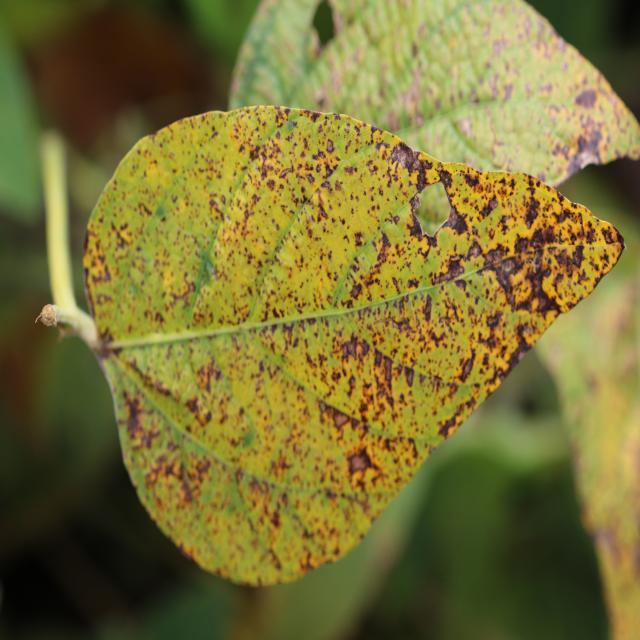Bacterial_Blight: (59, 115, 144, 222), (531, 240, 626, 312), (177, 432, 241, 511), (103, 366, 148, 473), (397, 174, 463, 239), (96, 321, 235, 350), (345, 400, 437, 443), (245, 463, 347, 500), (448, 267, 514, 316), (224, 150, 258, 205), (296, 202, 329, 244), (252, 355, 286, 382), (561, 242, 622, 257), (368, 309, 413, 329), (168, 283, 199, 310), (125, 264, 146, 302), (419, 158, 444, 187), (82, 259, 94, 315), (191, 396, 212, 425), (89, 338, 114, 360), (239, 422, 257, 449), (333, 410, 350, 429), (267, 548, 282, 569), (315, 88, 329, 109), (203, 257, 216, 278), (530, 249, 542, 271), (56, 324, 69, 343), (411, 193, 423, 213), (212, 204, 224, 221), (285, 117, 298, 132), (279, 166, 294, 178), (591, 213, 601, 225)
Soybean: (79, 104, 626, 590)
